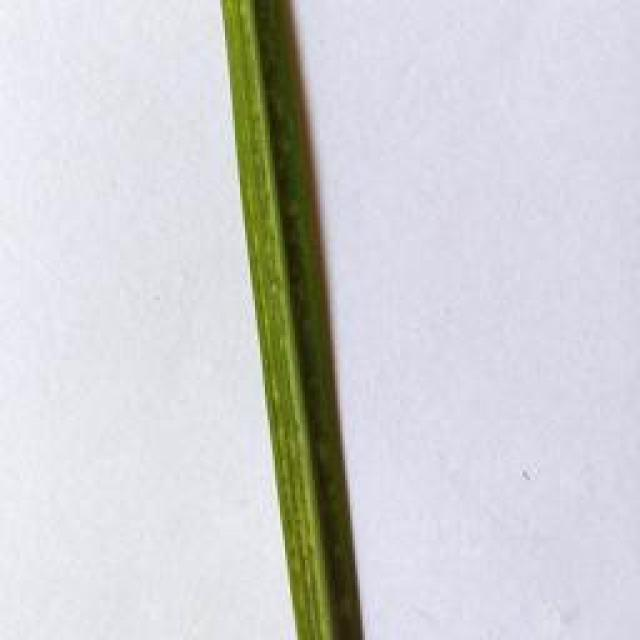Healthy-Plant: (213, 0, 362, 639)
